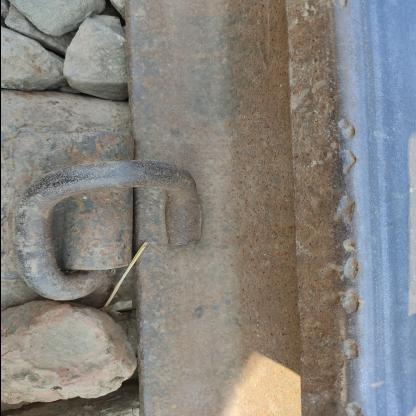Non Defective 1: (1, 96, 263, 353)
